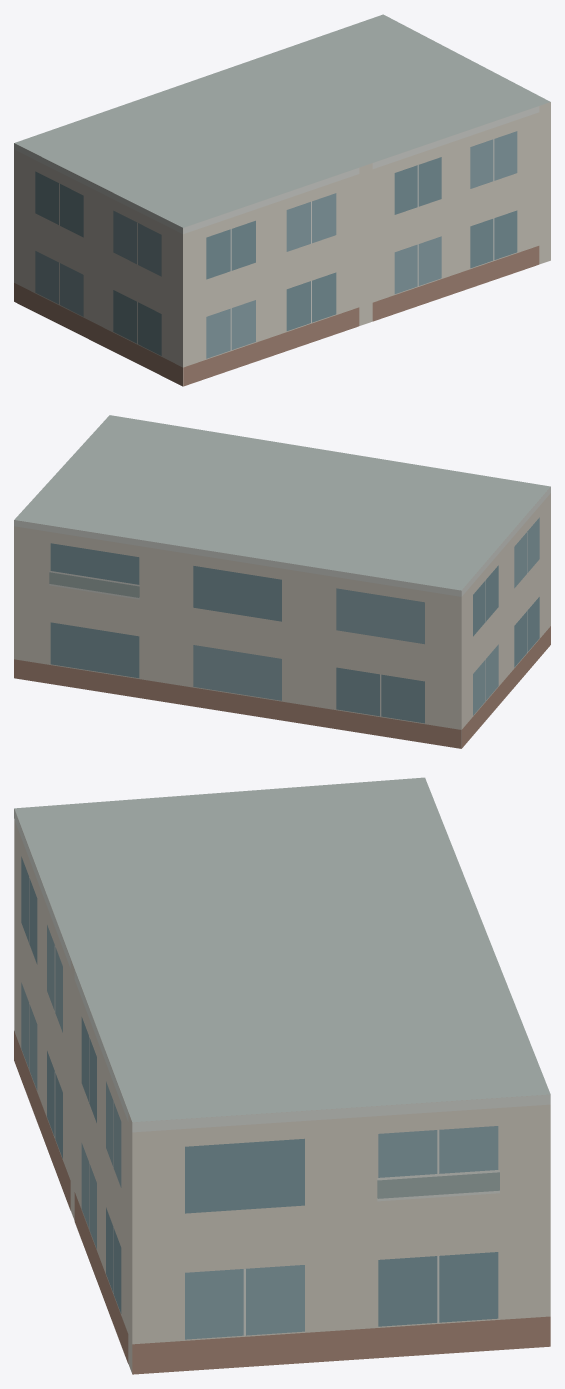
Rendered from survey-upis-32869673.glb.
3 views of the same model, one above another, from view 1: azimuth 30°, elevation 25°; view 2: azimuth 150°, elevation 25°; view 3: azimuth 270°, elevation 25° (orthographic). The views are drawn at different scales.
Parts seen in each view (by area): view 1: survey-upis-32869673.tmp; view 2: survey-upis-32869673.tmp; view 3: survey-upis-32869673.tmp.
Boxes of the visible parts, x1,y1,x2,y2 form: survey-upis-32869673.tmp: [14, 14, 550, 386]; survey-upis-32869673.tmp: [14, 415, 550, 748]; survey-upis-32869673.tmp: [14, 777, 550, 1374].
Bounding box in the file's own units: 17.91 × 6.1 × 11.78.
